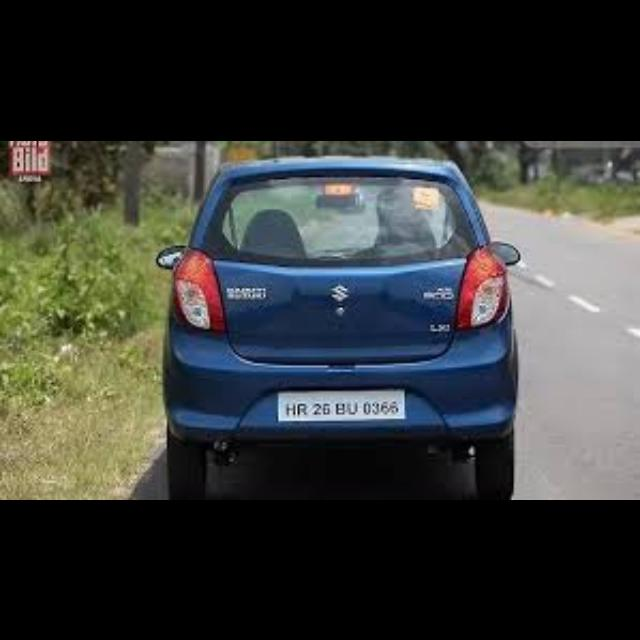vehicles: (152, 148, 520, 500)
